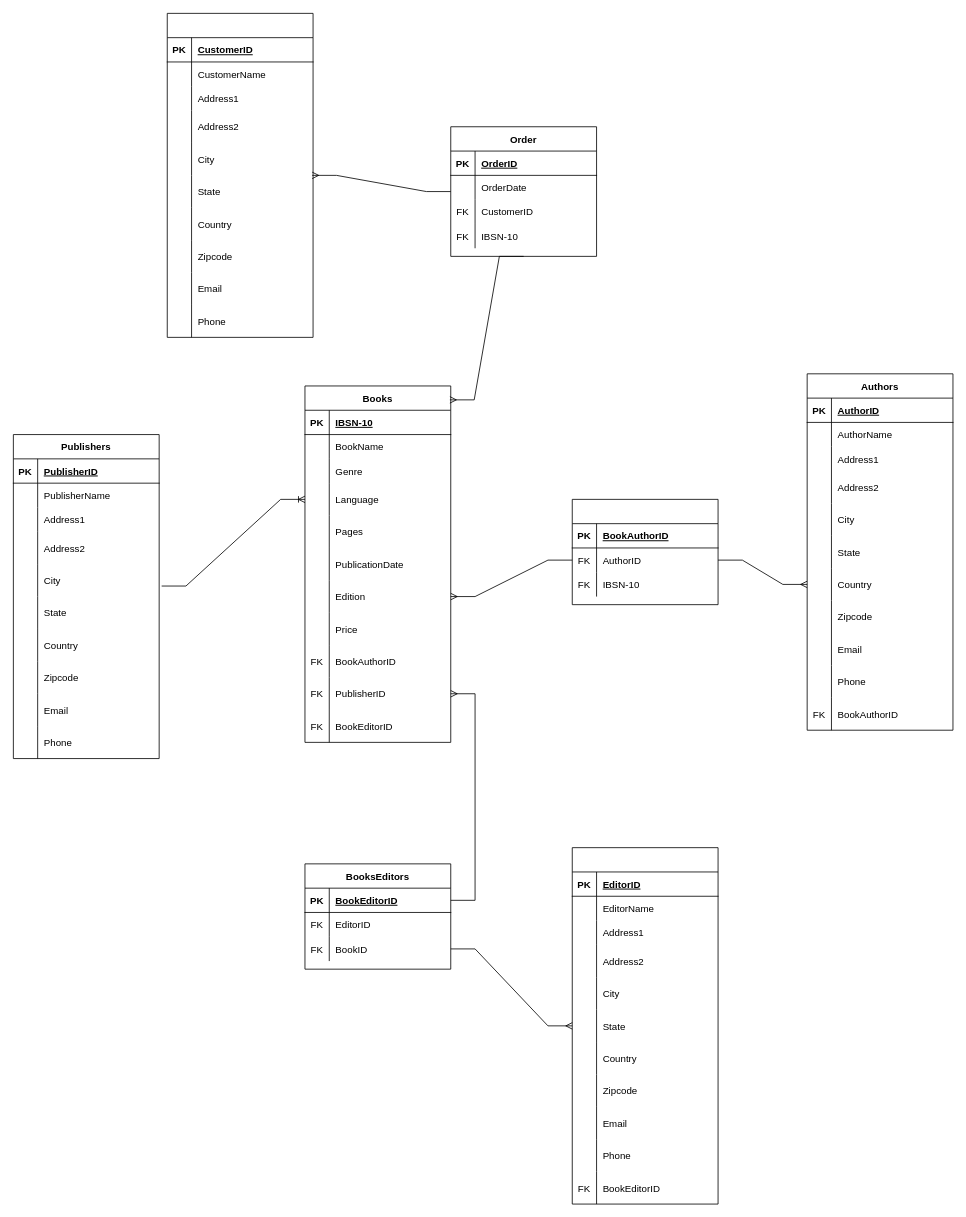
Some shapes in this 966 by 1217 pixel diagram are drawn without their labels. The box of each missing label's shape, as (x1, y1, x2, y2) in pixels:
BooksAuthors: (571, 499, 718, 605)
Customers: (166, 13, 313, 337)
Editors: (571, 847, 718, 1204)
